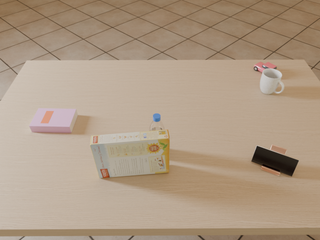book: (29, 108, 78, 133)
bottle: (149, 114, 165, 131)
box: (90, 130, 170, 178)
cup: (260, 68, 284, 94)
phone: (251, 145, 299, 176)
toy_car: (254, 62, 277, 72)
